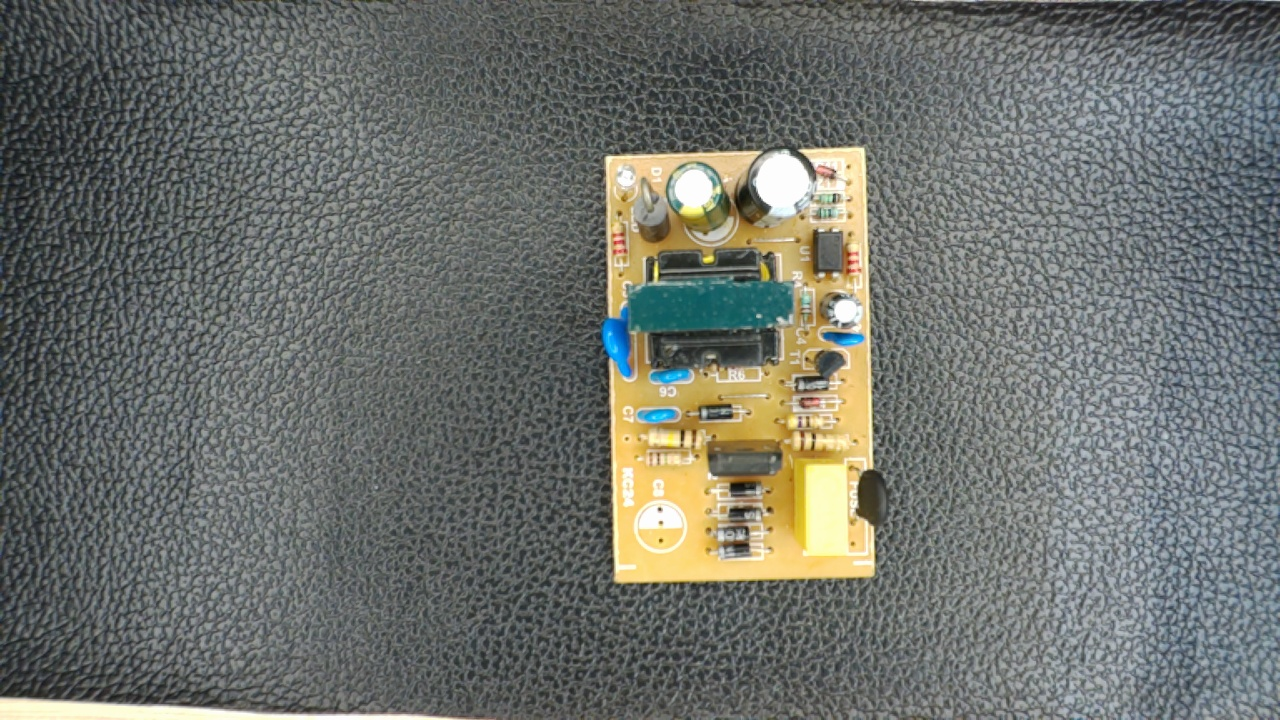fuse: (846, 455, 893, 543)
mov: (599, 296, 638, 381)
optocoupler: (803, 221, 851, 285)
